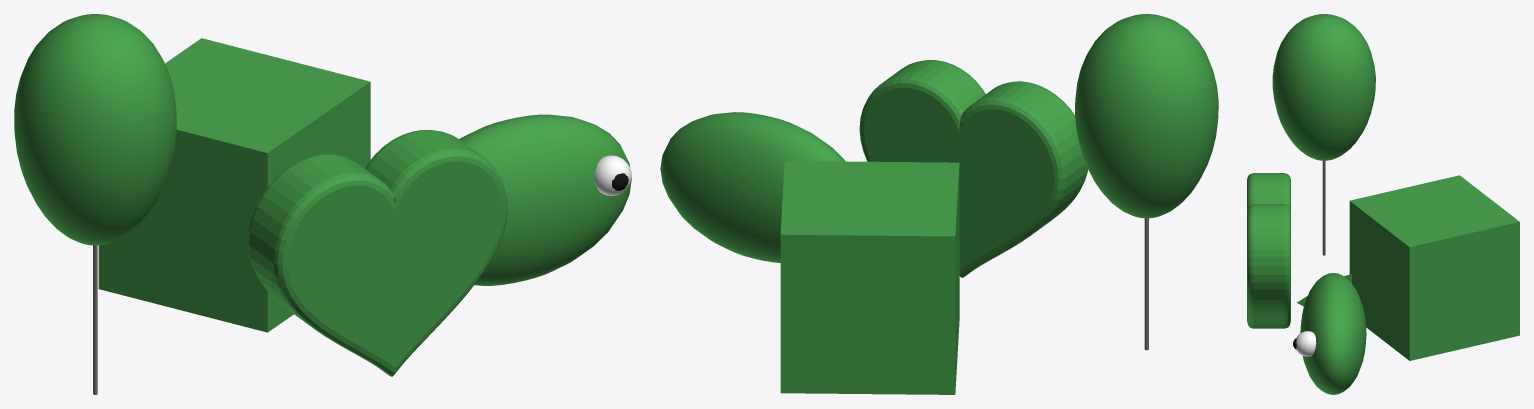
The model's file is green.glb.
The picture shows the model from 3 angles, left to right: view 1: azimuth 30°, elevation 25°; view 2: azimuth 150°, elevation 25°; view 3: azimuth 270°, elevation 25°; orthographic projection. The views are drawn at different scales.
Parts seen in each view (by area): view 1: heart, cube, balloon, fish, object 4; view 2: cube, heart, balloon, fish; view 3: cube, balloon, heart, fish, object 4.
Boxes of the visible parts, bbox=[...] form: heart: bbox=[248, 130, 507, 376]; cube: bbox=[98, 38, 370, 332]; balloon: bbox=[14, 14, 176, 394]; fish: bbox=[459, 114, 631, 285]; object 4: bbox=[594, 155, 631, 195]; cube: bbox=[780, 161, 959, 394]; heart: bbox=[859, 60, 1087, 277]; balloon: bbox=[1075, 14, 1218, 350]; fish: bbox=[660, 112, 844, 262]; cube: bbox=[1349, 175, 1519, 360]; balloon: bbox=[1272, 14, 1375, 255]; heart: bbox=[1247, 173, 1290, 328]; fish: bbox=[1297, 273, 1366, 394]; object 4: bbox=[1296, 331, 1316, 356].
Bounding box in the file's own units: 2.43 × 1.42 × 1.48.
